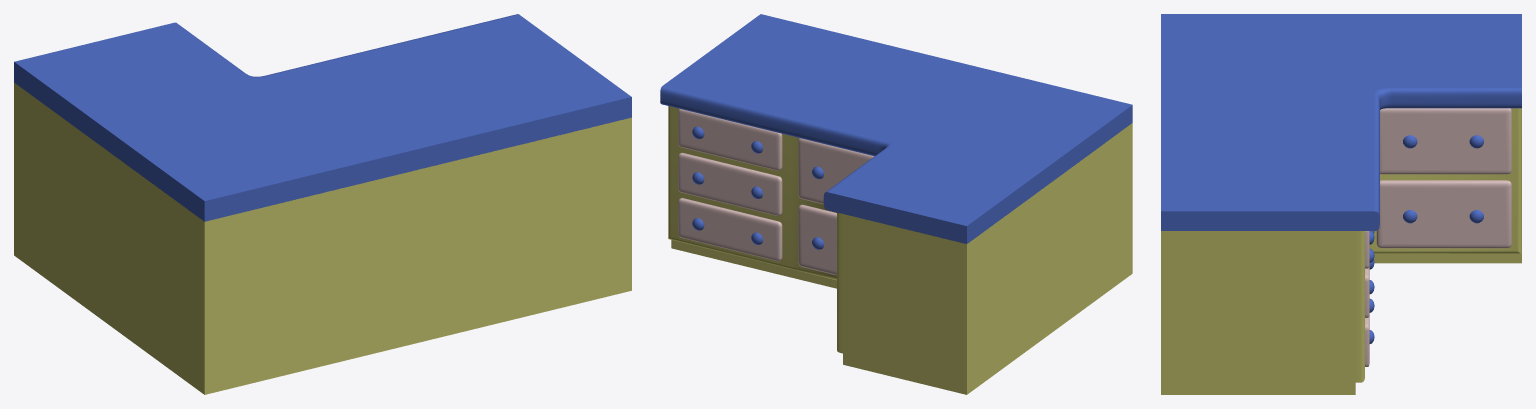
File: LockersDown.FBX
3 renders of one model, left to right at view 1: azimuth 30°, elevation 25°; view 2: azimuth 150°, elevation 25°; view 3: azimuth 270°, elevation 25°, orthographic. The views are drawn at different scales.
Visible parts, largest first — view 1: LockersDown; view 2: LockersDown; view 3: LockersDown.
Part boxes in pixels (left/top/right/bottom): LockersDown: left=14, top=14, right=631, bottom=394; LockersDown: left=660, top=14, right=1132, bottom=394; LockersDown: left=1161, top=14, right=1521, bottom=394.
Bounding box in the file's own units: 38.82 × 16.83 × 29.98.
